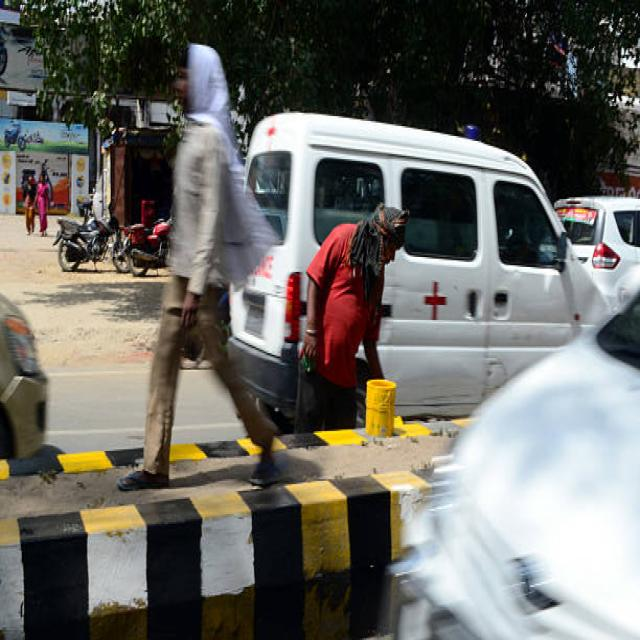ambulance: (420, 269, 454, 324), (461, 121, 485, 152)
